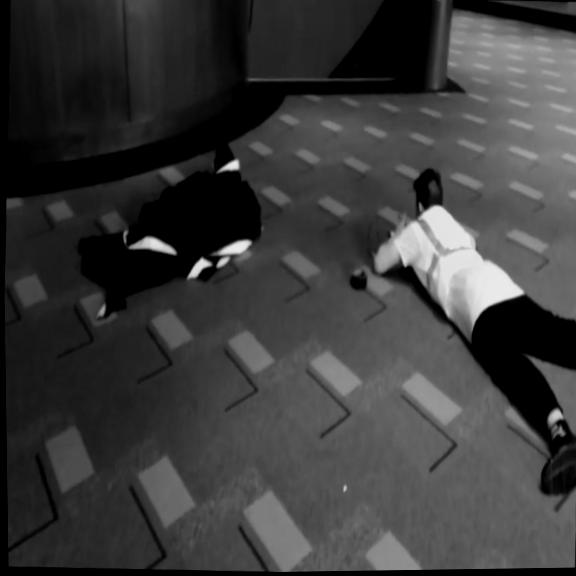safety_vest: (405, 205, 491, 318)
